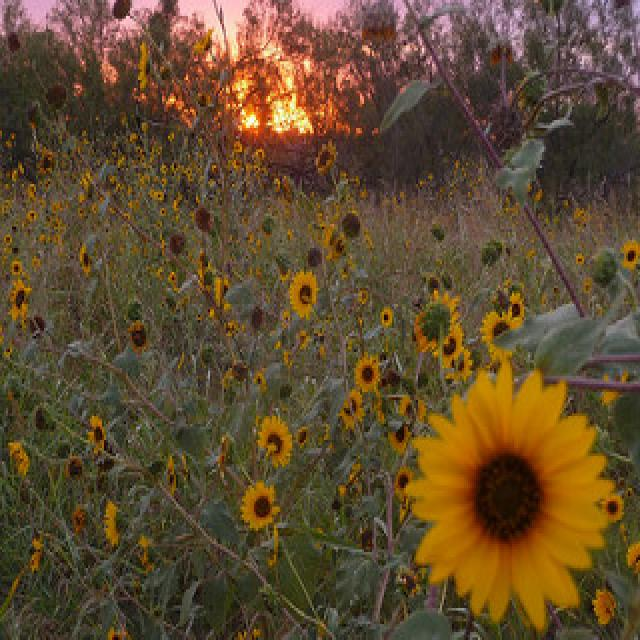sunflower: (409, 367, 609, 620), (408, 289, 460, 356), (479, 307, 515, 360), (237, 481, 273, 532), (257, 413, 291, 467), (98, 492, 130, 548), (2, 434, 32, 489), (285, 272, 321, 317), (123, 320, 157, 360), (83, 408, 107, 464), (596, 490, 628, 530), (353, 353, 379, 399), (5, 283, 31, 325), (336, 209, 366, 244), (74, 239, 98, 276), (315, 141, 339, 176), (620, 235, 640, 269), (379, 304, 395, 331)
